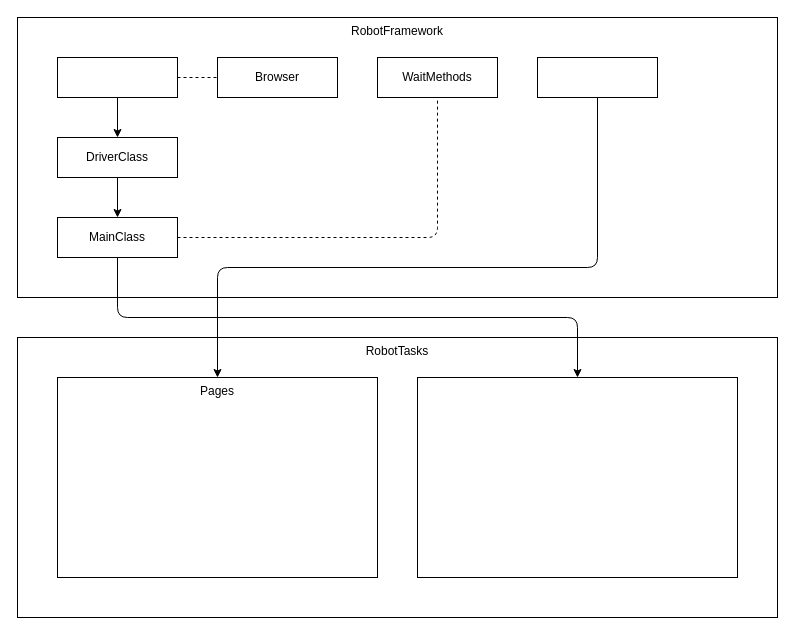
Some shapes in this 795 by 635 pixel diagram are drawn without their labels. The centre of each missing label's shape, as x and y in pixels:
DriverFactory: point 117,77
PageObject: point 597,77
Tasks: point 577,477
